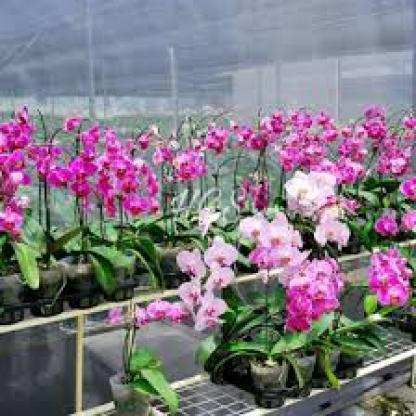ANGGREK: (7, 85, 402, 358)
